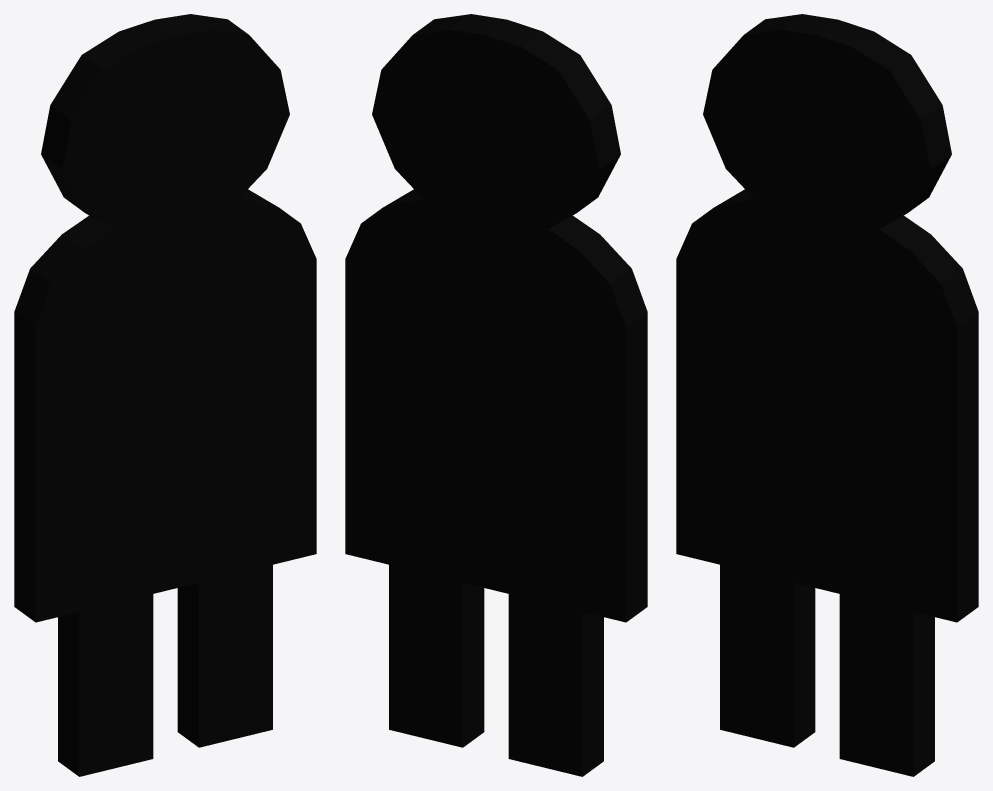
Rendered from person.000.obj.
3 views of the same model, side by side, from view 1: azimuth 30°, elevation 25°; view 2: azimuth 150°, elevation 25°; view 3: azimuth 330°, elevation 25° (orthographic).
Parts seen in each view (by area): view 1: Person.000; view 2: Person.000; view 3: Person.000.
Boxes of the visible parts, box(x1,y1,x2,y2) form: Person.000: box(14, 14, 316, 776); Person.000: box(345, 14, 647, 776); Person.000: box(676, 14, 978, 776).
Bounding box in the file's own units: 0.1276 × 0.3118 × 0.0169.
Materials: 1 (1 with a texture image).
